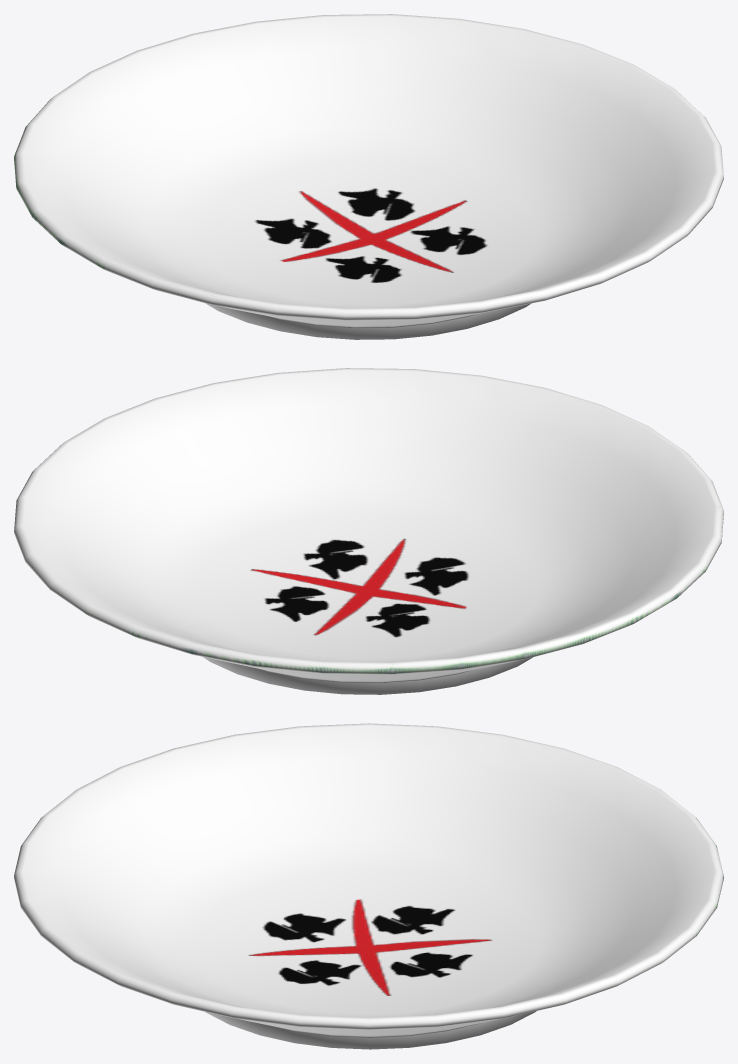
File: piatto_sardegna.glb
3 renders of one model, top to bottom at view 1: azimuth 30°, elevation 25°; view 2: azimuth 150°, elevation 25°; view 3: azimuth 270°, elevation 25°, orthographic.
Parts seen in each view (by area): view 1: Mesh_0; view 2: Mesh_0; view 3: Mesh_0.
Part boxes in pixels (x1,y1,x2,y2): Mesh_0: (14, 14, 723, 339); Mesh_0: (14, 368, 723, 694); Mesh_0: (14, 723, 723, 1049).
Bounding box in the file's own units: 0.3705 × 0.0543 × 0.3705.
Materials: 1 (1 with a texture image).
